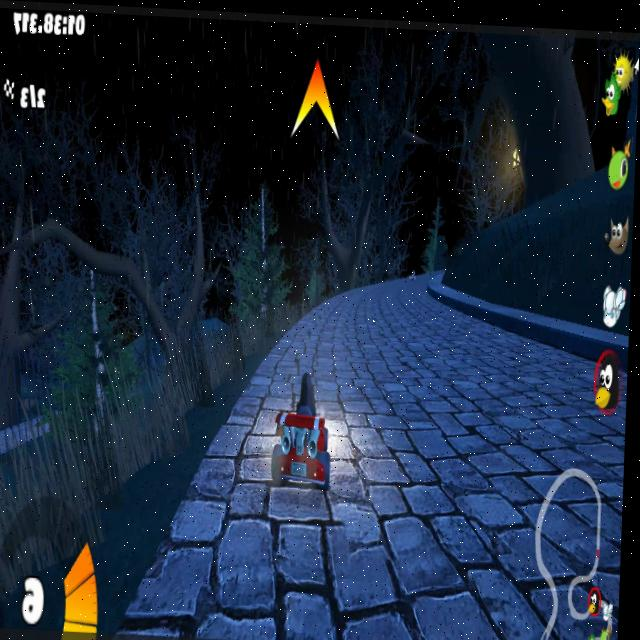track: (329, 341, 580, 640), (156, 473, 332, 640), (279, 312, 492, 387), (316, 292, 449, 333), (362, 284, 431, 306), (399, 270, 430, 284)
